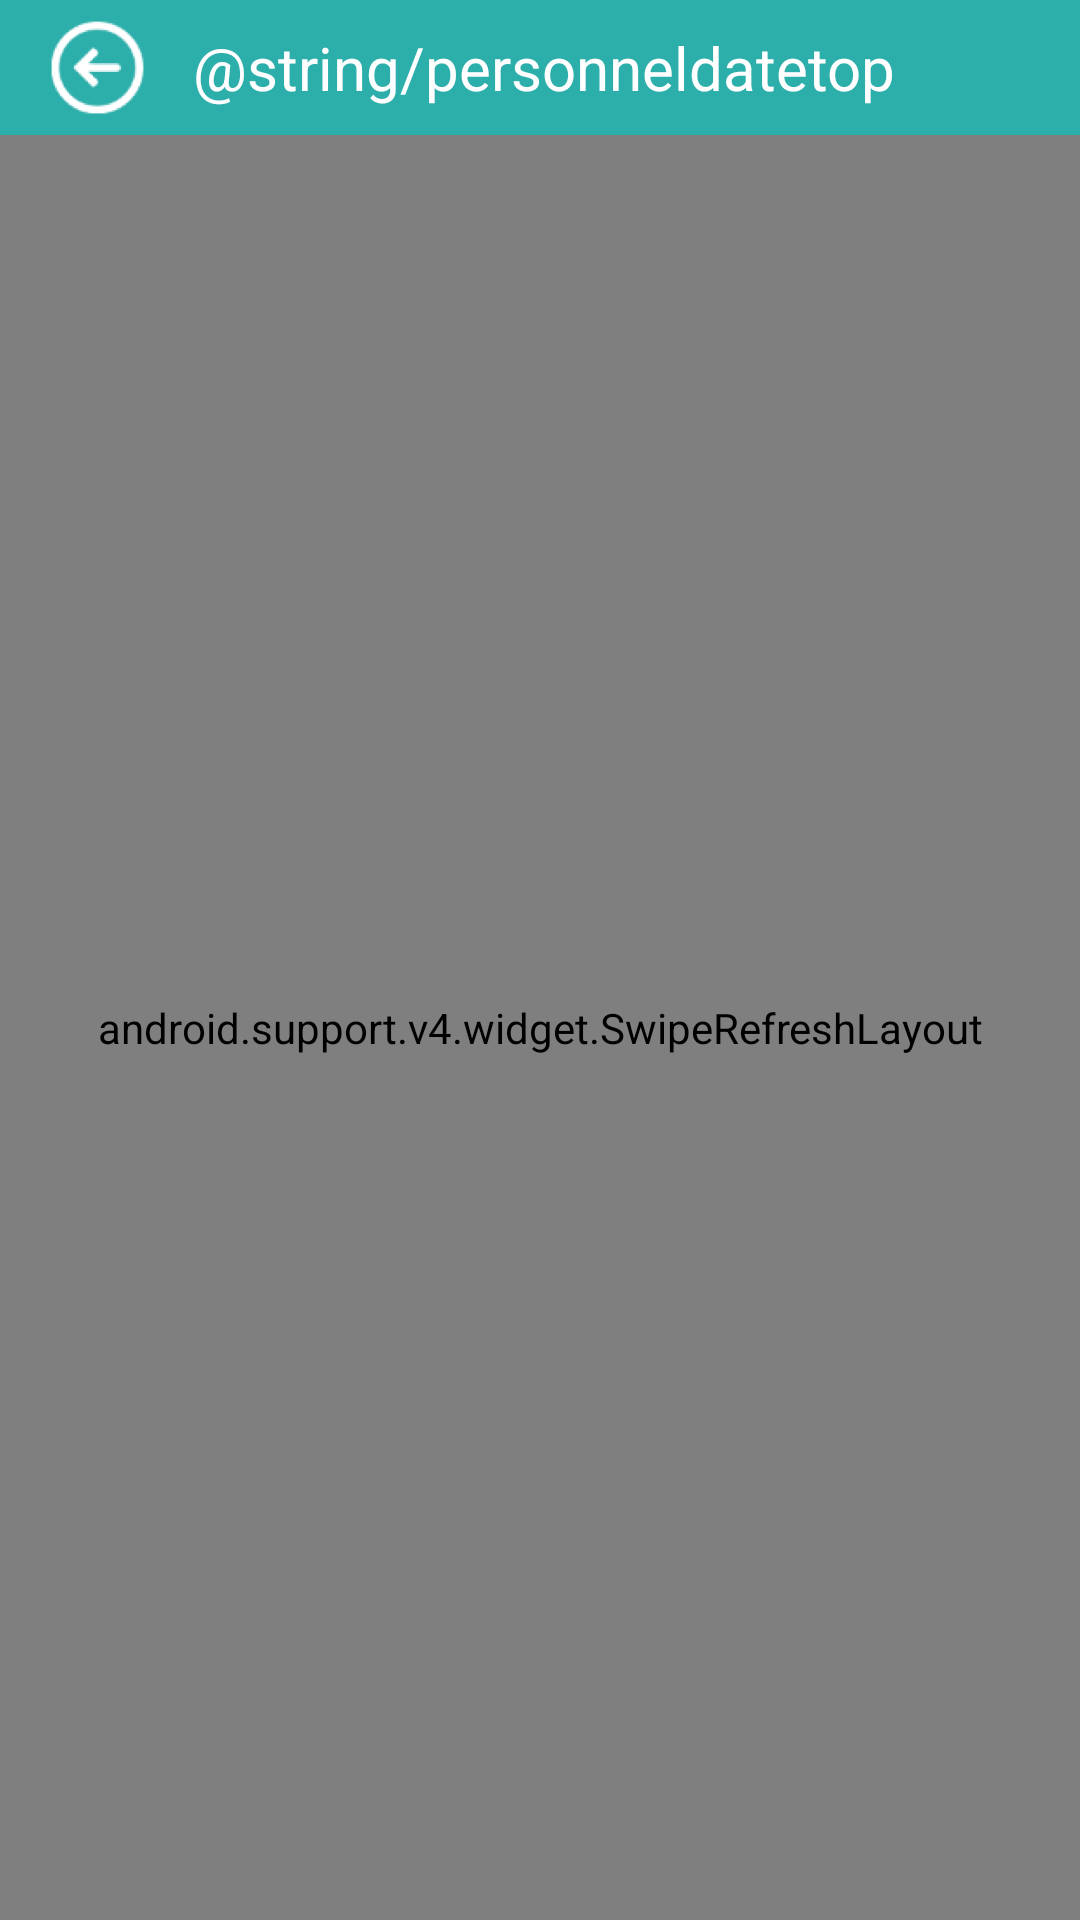

Named icons in this screenshot (1080 x 1920) and their bounding boxes, (x1, y1, x2, y2):
goback: (51, 21, 144, 114)
